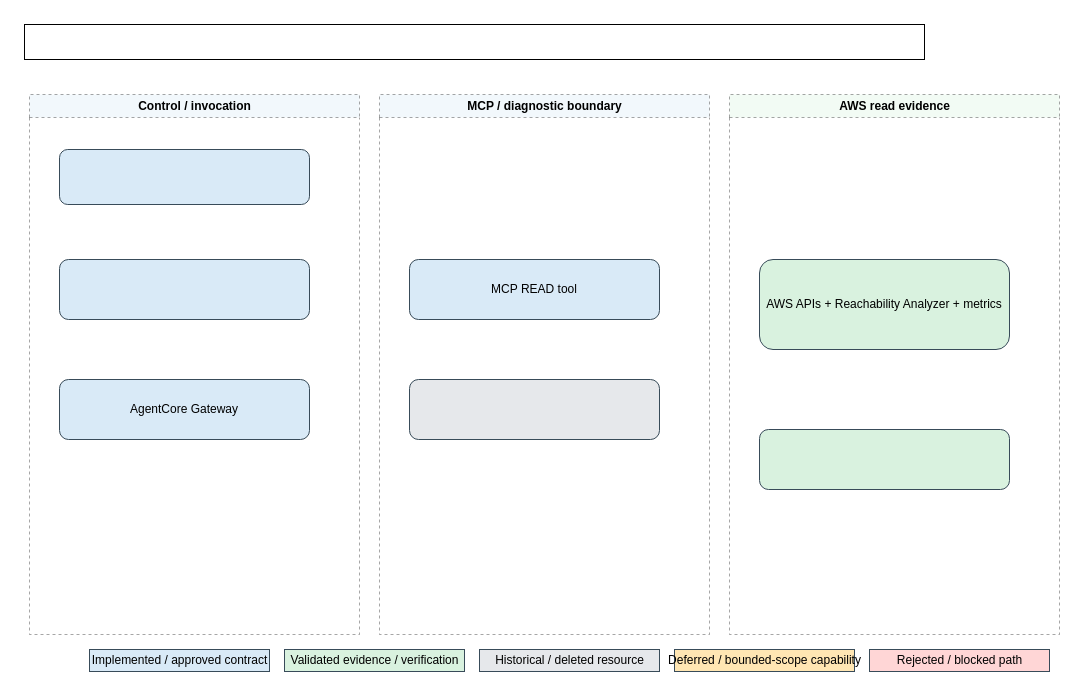
This 1077x689 diagram has some shape labels left out. Here are the shapes that lost their labels. From the top down, the centre of each, then its label:
At point (474, 42): "AgentCore / MCP diagnostic tool-call flow".
At point (184, 176): "Agent request".
At point (184, 289): "AgentCore Runtime".
At point (534, 409): "Diagnostic Lambda".
At point (884, 459): "Normalized evidence response".
